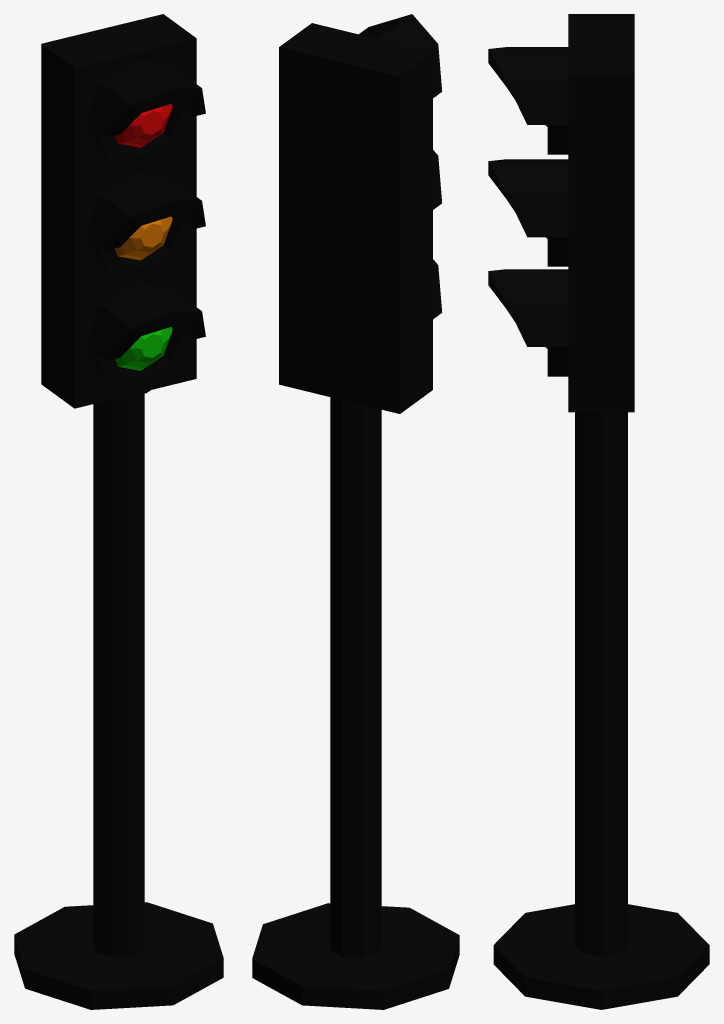
Rendered from trafficLight.obj.
3 views of the same model, side by side, from view 1: azimuth 30°, elevation 25°; view 2: azimuth 150°, elevation 25°; view 3: azimuth 270°, elevation 25° (orthographic).
Visible parts, largest first — view 1: traffic_light; view 2: traffic_light; view 3: traffic_light.
Part boxes in pixels (x1,y1,x2,y2): traffic_light: [14, 14, 223, 1009]; traffic_light: [252, 14, 459, 1009]; traffic_light: [488, 14, 709, 1009].
Bounding box in the file's own units: 1.83 × 8.63 × 1.88.
